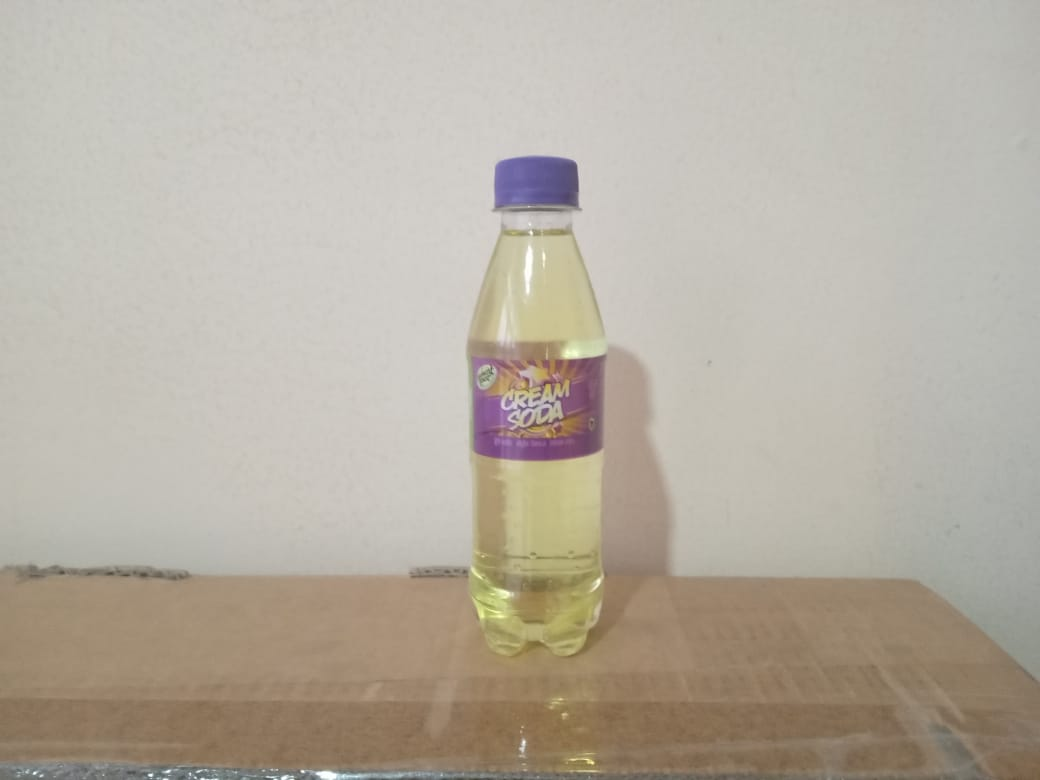Xs: (451, 150, 610, 676)
